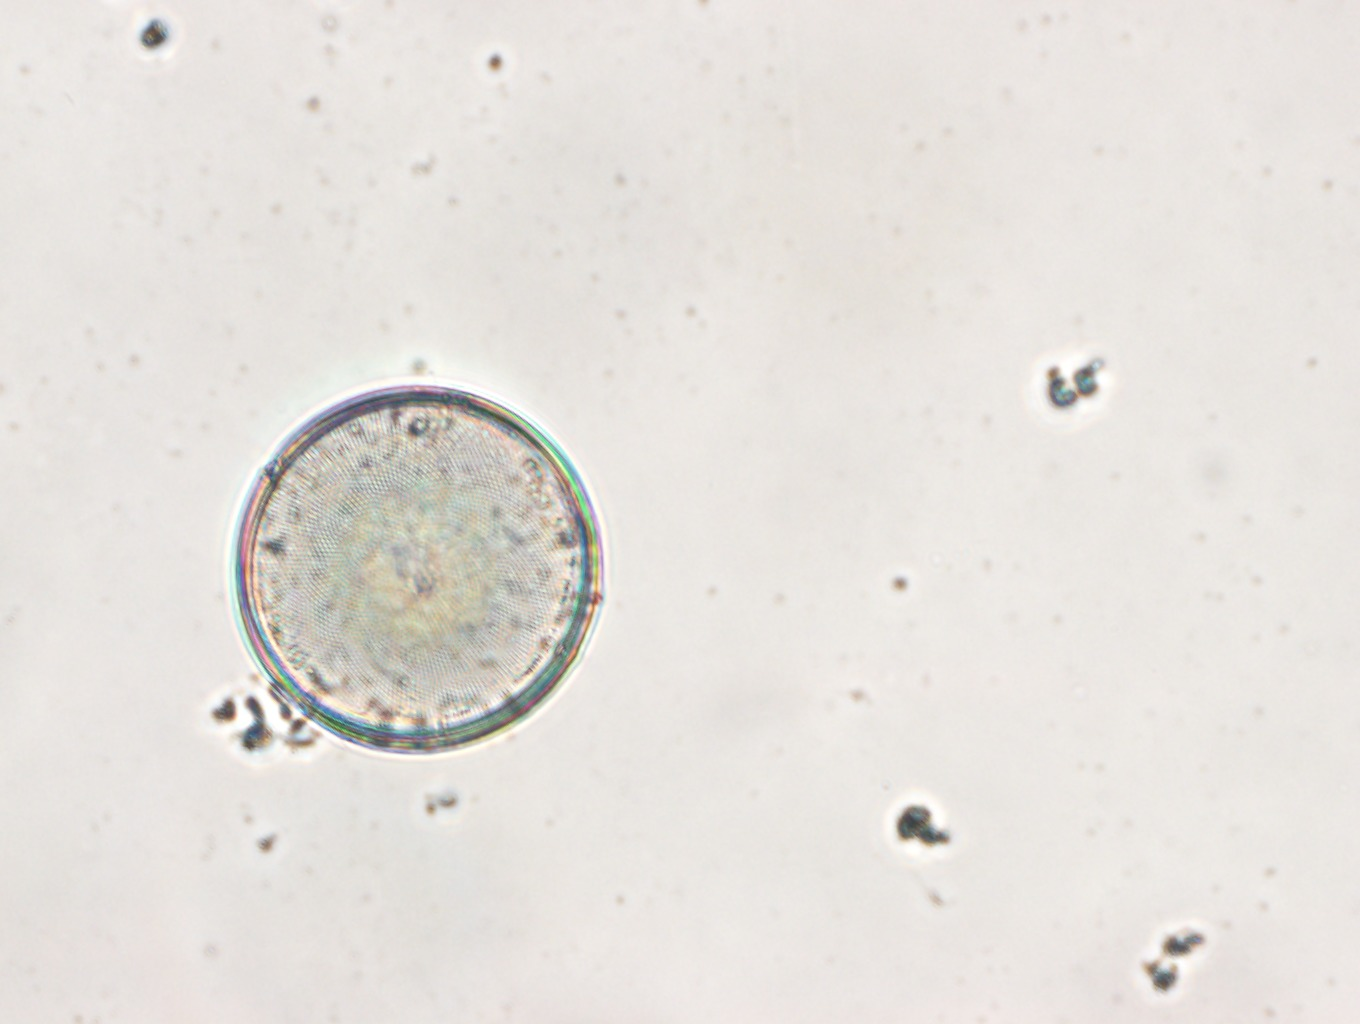coscinodiscus: (229, 384, 606, 758)
